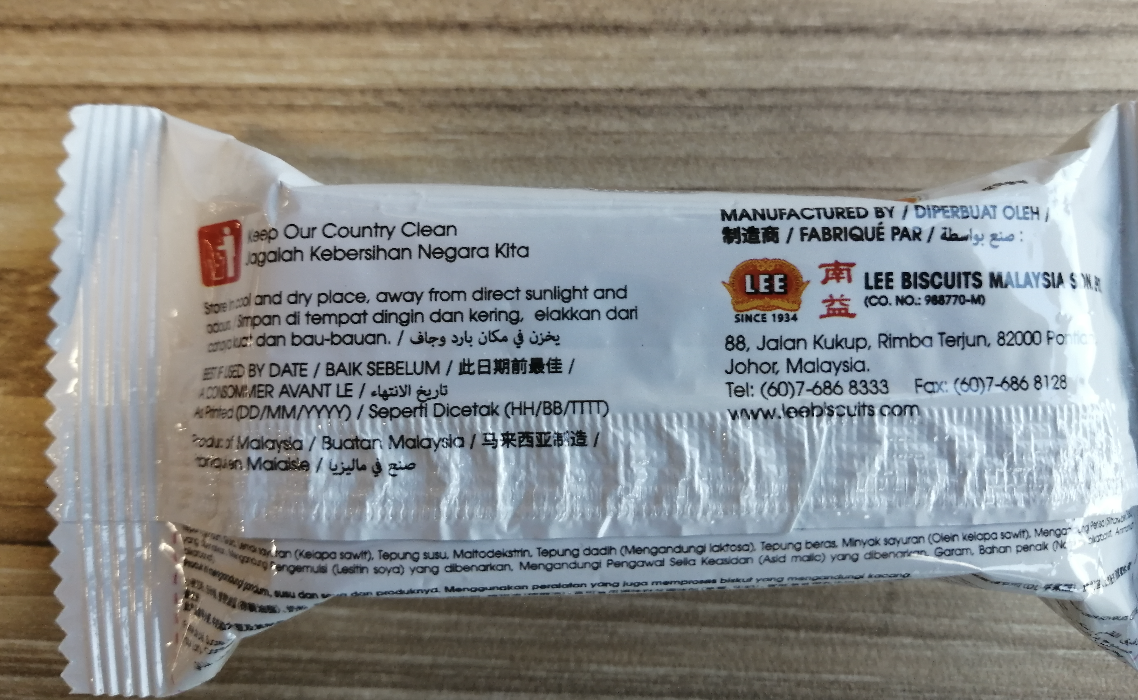Wafers: (186, 213, 1092, 503)
